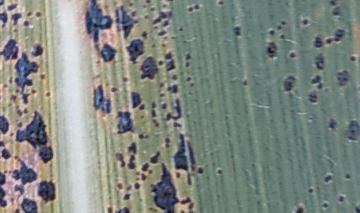tarspot: (149, 161, 181, 213), (13, 51, 39, 105), (173, 132, 196, 186), (84, 1, 113, 43), (114, 3, 139, 39), (10, 154, 38, 184), (90, 83, 112, 114), (115, 109, 135, 136), (140, 56, 159, 84), (124, 38, 144, 64), (1, 37, 20, 63), (37, 180, 57, 203), (164, 98, 183, 121), (100, 42, 118, 64), (324, 28, 345, 46), (280, 74, 299, 93), (345, 118, 360, 142), (335, 69, 351, 87), (20, 197, 38, 213), (163, 50, 176, 72), (7, 11, 23, 28), (1, 169, 8, 207), (309, 73, 324, 90), (29, 41, 44, 58), (265, 40, 278, 59), (313, 51, 325, 70), (129, 91, 141, 110), (152, 10, 166, 26), (114, 151, 126, 168), (1, 114, 10, 136), (127, 154, 137, 171), (149, 150, 162, 163), (126, 140, 138, 154), (1, 9, 9, 29), (327, 116, 338, 130), (307, 92, 318, 106), (13, 183, 26, 194), (313, 35, 322, 49), (231, 25, 242, 36), (331, 5, 341, 17), (6, 2, 19, 11), (151, 117, 160, 130), (115, 206, 131, 213), (167, 84, 178, 94), (187, 200, 195, 213), (122, 192, 131, 203), (1, 148, 10, 159), (163, 136, 171, 148), (137, 133, 150, 140), (300, 18, 310, 27), (181, 196, 191, 205), (129, 9, 139, 18), (140, 172, 148, 183), (141, 161, 149, 172), (170, 121, 181, 129), (156, 29, 167, 37), (336, 194, 345, 203), (115, 181, 124, 190), (294, 205, 304, 213), (323, 174, 331, 184), (133, 181, 141, 191), (170, 72, 178, 82), (320, 201, 328, 210), (240, 78, 249, 86), (109, 85, 118, 93), (138, 103, 146, 112), (15, 109, 24, 117), (33, 11, 42, 19), (22, 19, 30, 28), (140, 30, 148, 39), (149, 99, 157, 108), (184, 52, 192, 61), (7, 94, 17, 101), (160, 100, 167, 110), (93, 45, 100, 55), (288, 51, 296, 59), (193, 3, 201, 11), (174, 171, 182, 179), (121, 75, 129, 83), (196, 165, 203, 174), (44, 90, 53, 97), (15, 121, 24, 128), (1, 83, 10, 90), (150, 108, 157, 117), (162, 18, 169, 27), (344, 172, 351, 180), (348, 55, 356, 62), (267, 29, 275, 36), (215, 168, 223, 175), (39, 73, 47, 80), (22, 106, 29, 114), (158, 91, 165, 99), (149, 42, 157, 49), (26, 10, 32, 19), (215, 1, 225, 6), (13, 88, 20, 95), (177, 26, 184, 33), (157, 81, 164, 88), (159, 41, 166, 48), (354, 205, 360, 213), (184, 61, 190, 69), (329, 1, 338, 6), (307, 187, 313, 194), (279, 33, 285, 40), (106, 206, 112, 213), (185, 76, 192, 82), (187, 6, 193, 12), (147, 168, 153, 174), (14, 103, 20, 109), (128, 1, 134, 7), (143, 14, 149, 20), (279, 20, 286, 25), (13, 208, 20, 213), (158, 59, 163, 66), (179, 209, 187, 213), (1, 140, 5, 148), (276, 24, 281, 30), (31, 88, 36, 94), (188, 82, 194, 87), (149, 6, 155, 11), (161, 3, 166, 9), (1, 1, 5, 7), (144, 1, 152, 4), (164, 1, 173, 3)
